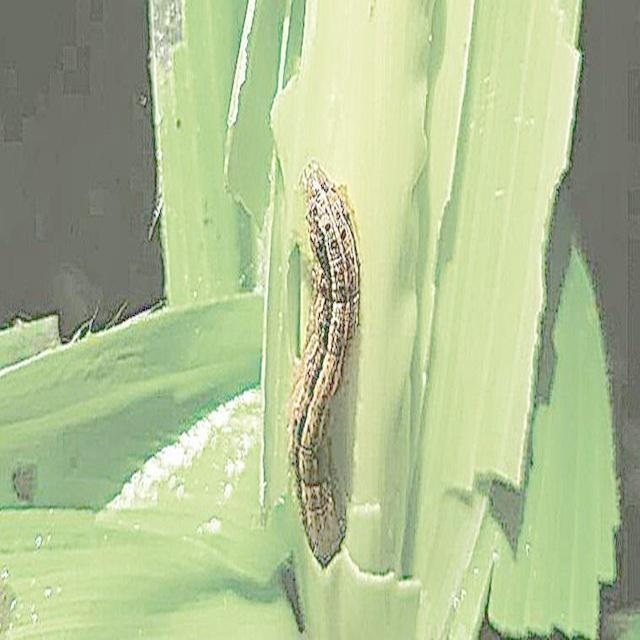gusano_cogollero: (285, 172, 357, 555)
